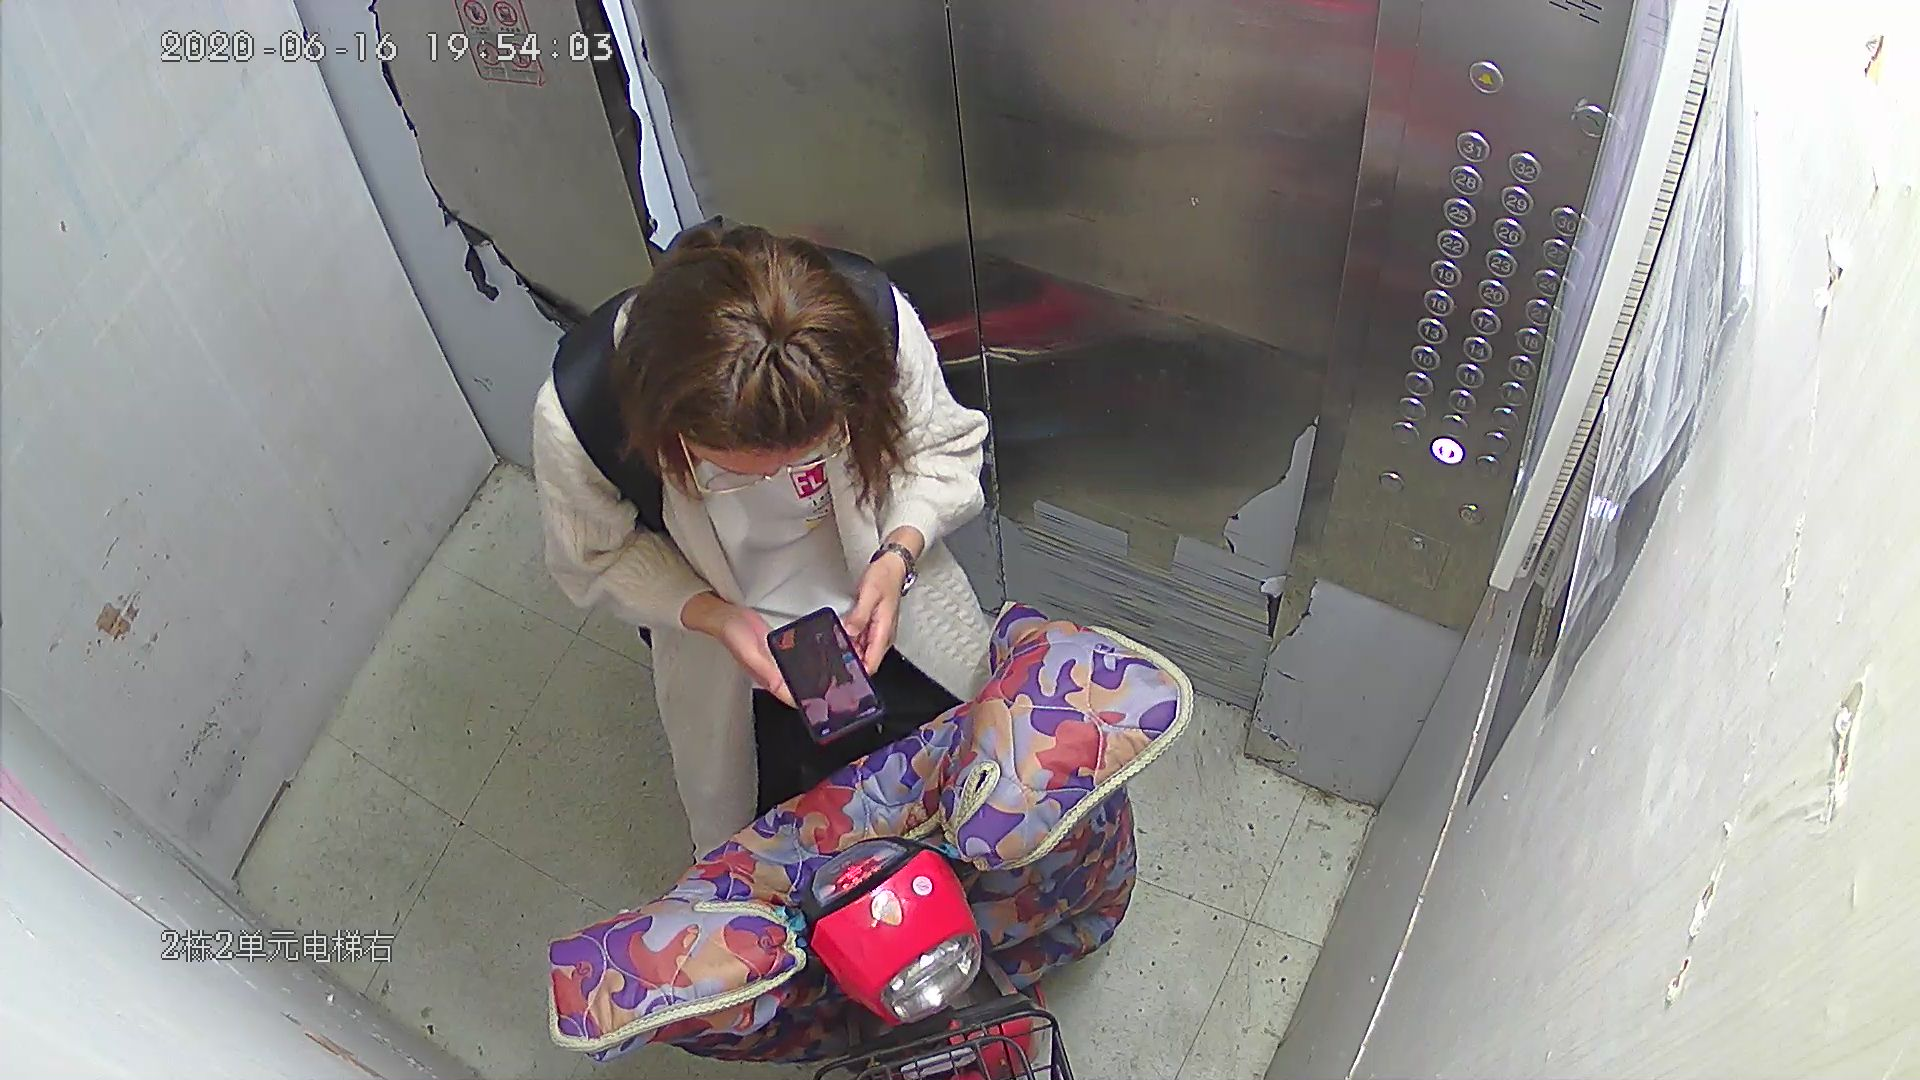Electric-bicycle: (550, 630, 1196, 1080)
